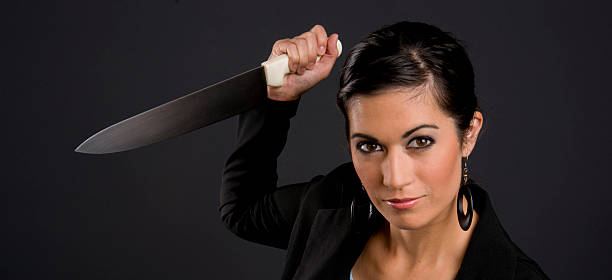knife: (74, 38, 344, 155)
